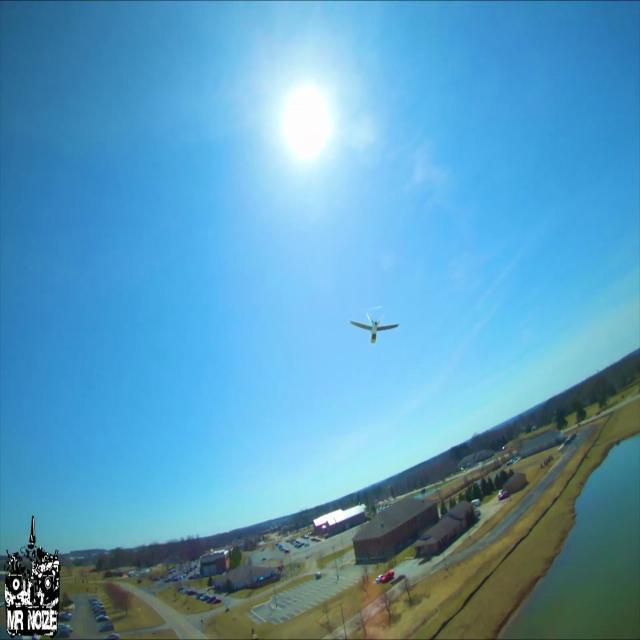iha: (345, 302, 403, 350)
